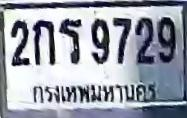2: (10, 19, 29, 66), (135, 17, 154, 64)
7: (112, 17, 131, 64)
9: (157, 16, 176, 63), (90, 18, 109, 64)
A01: (33, 19, 54, 65)
A35: (58, 17, 81, 64)
BKK: (28, 81, 161, 103)
